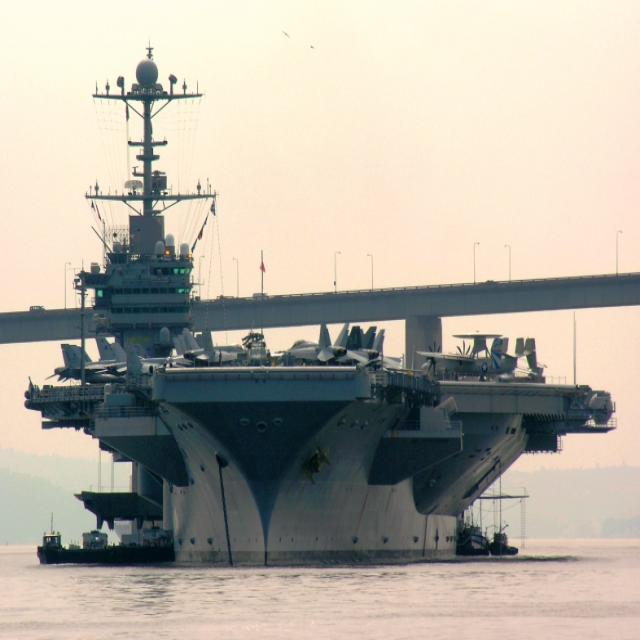Portanaves: (24, 45, 621, 569)
